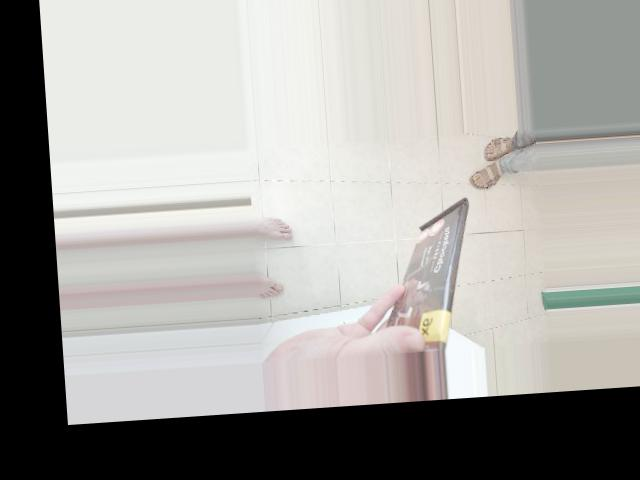chocolate: (323, 182, 480, 289)
